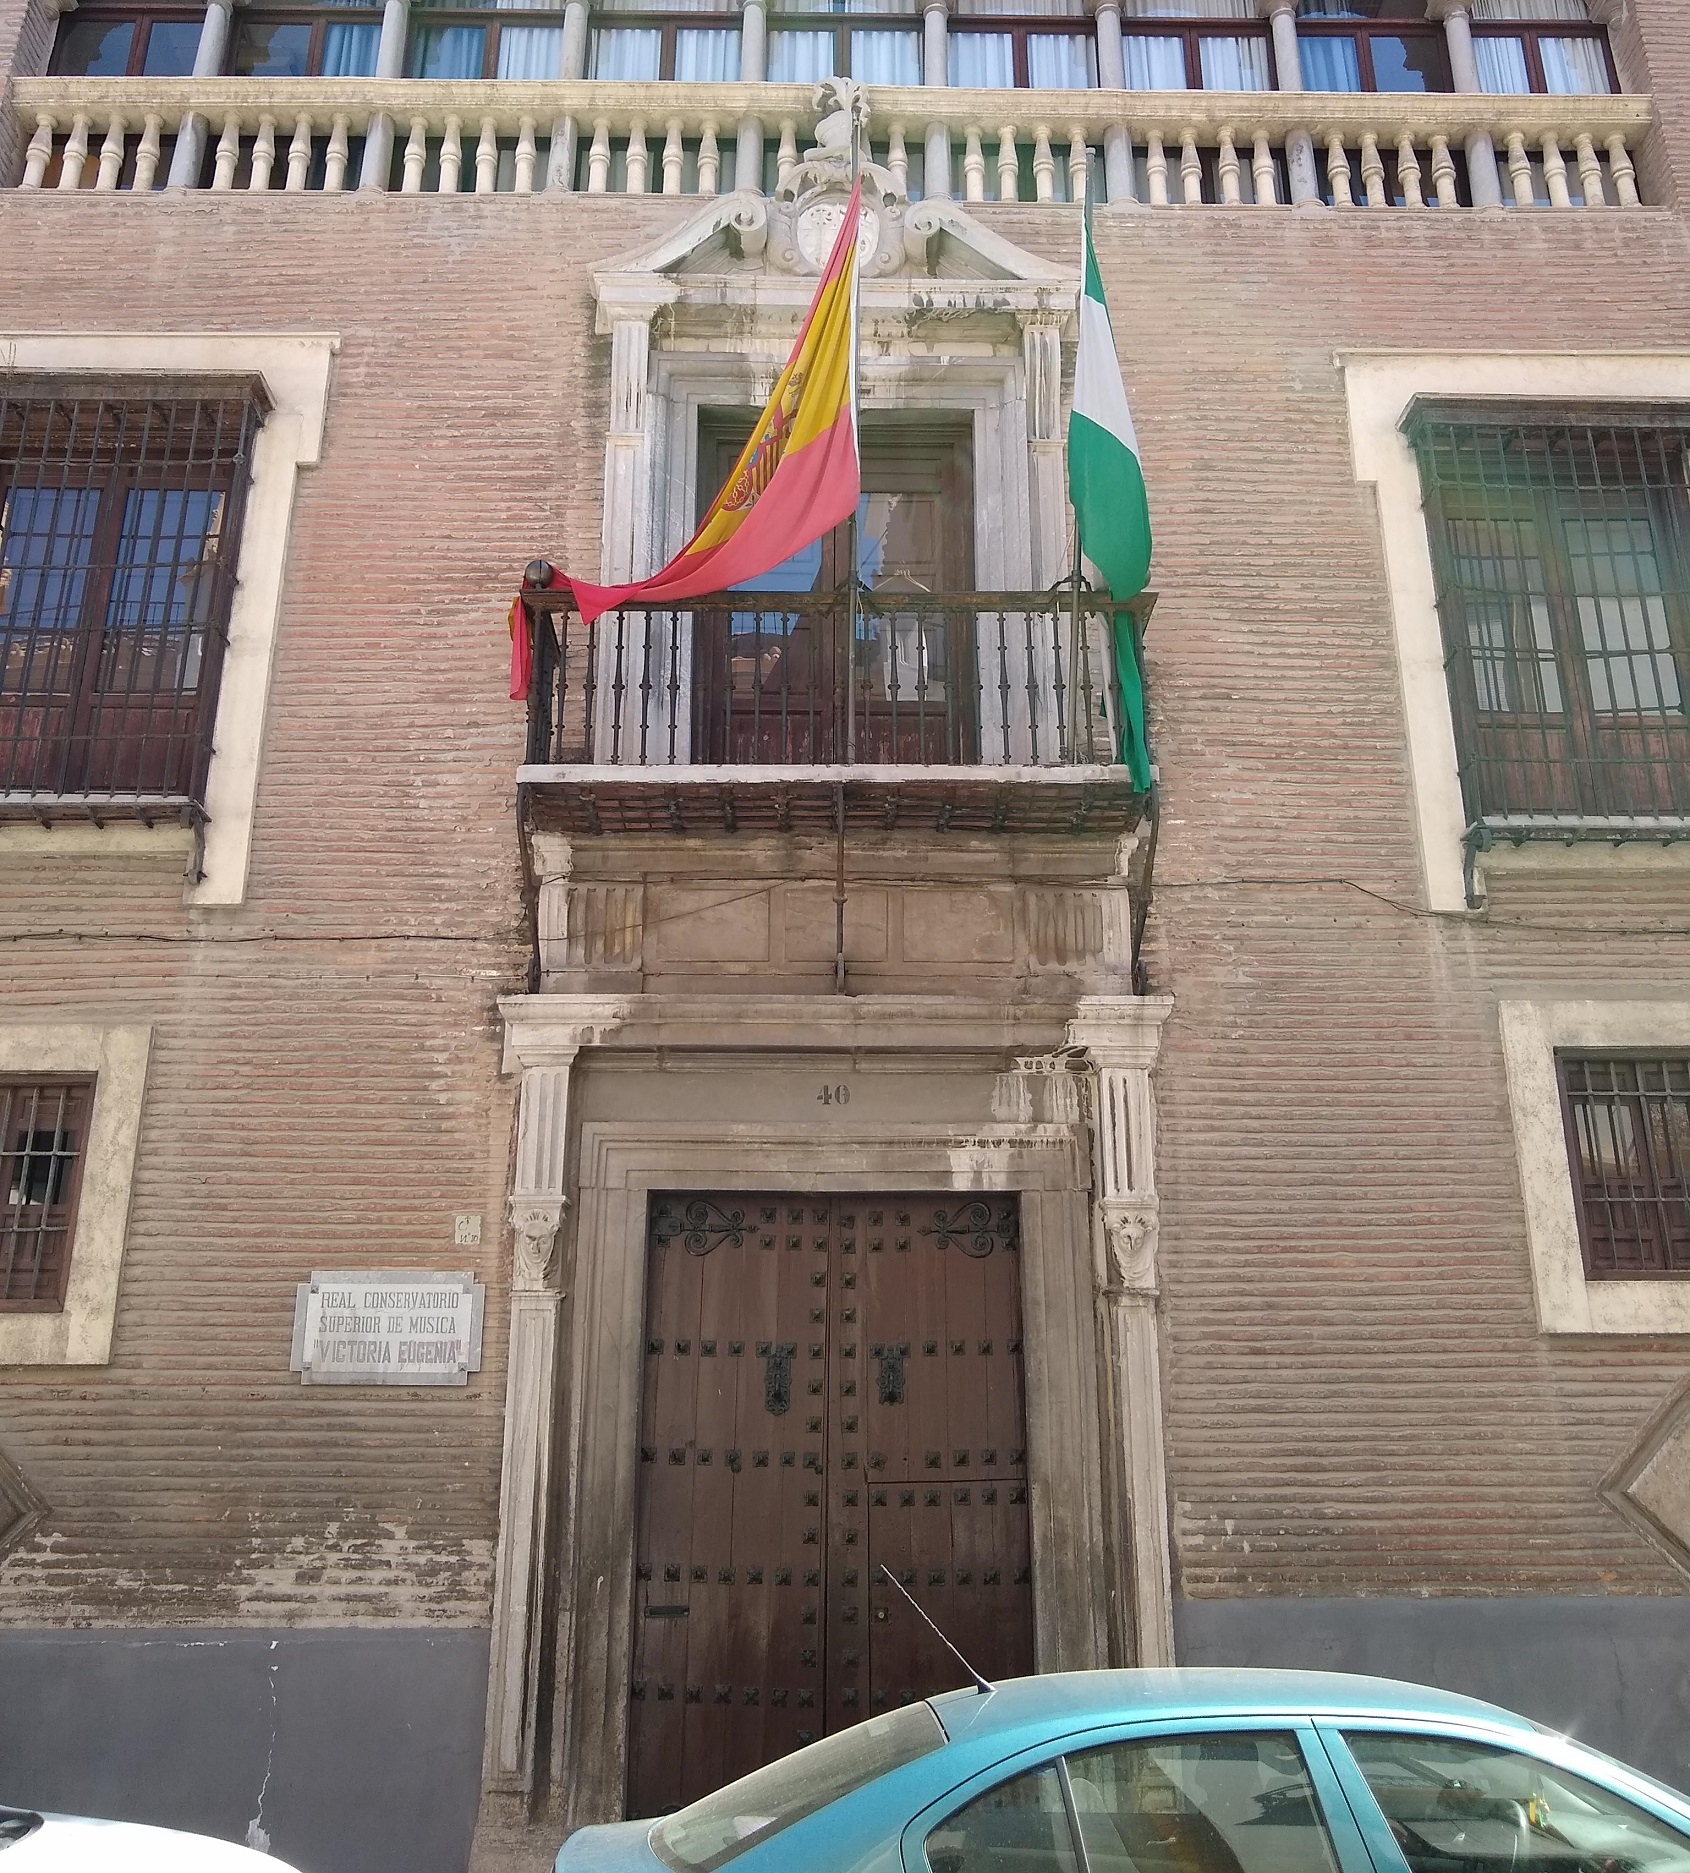fronton-partido: (579, 188, 1096, 318)
vano-adintelado: (569, 1114, 1096, 1822), (644, 344, 1010, 768)
